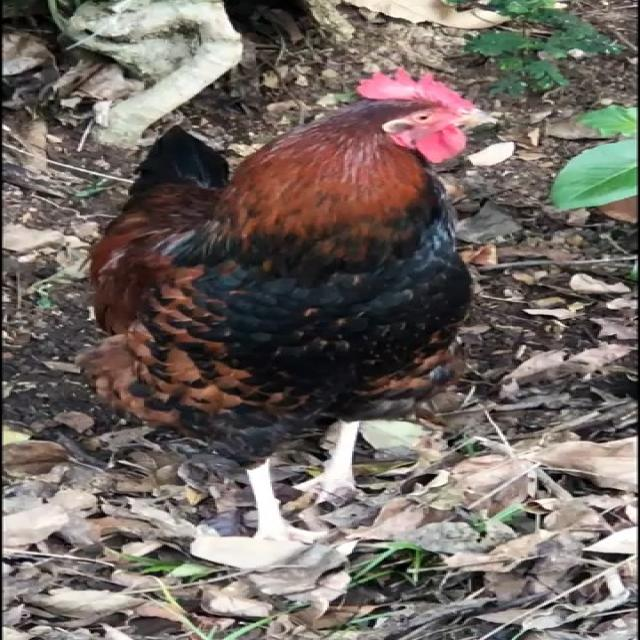walking: (71, 54, 530, 566)
